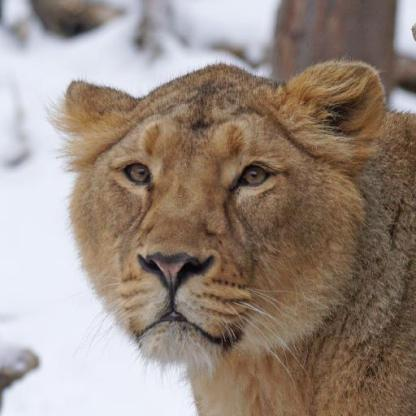lion: (72, 76, 405, 366)
